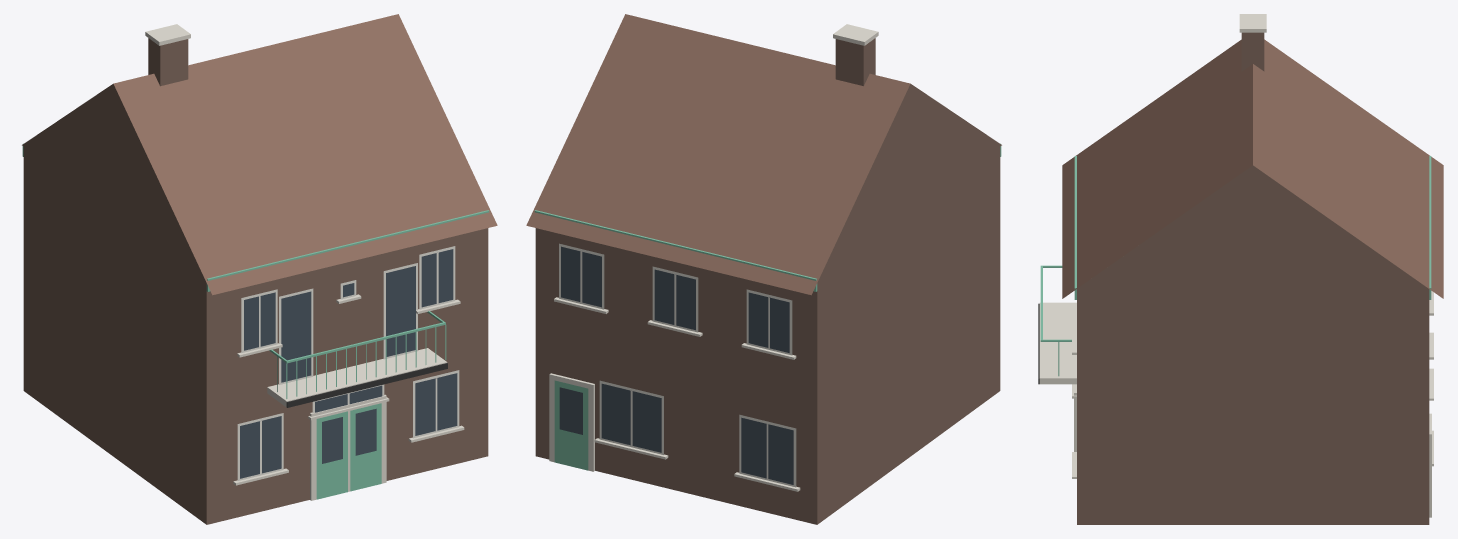
File: oo-ta-centre__green__2__gable__long__solid.glb
3 renders of one model, left to right at view 1: azimuth 30°, elevation 25°; view 2: azimuth 150°, elevation 25°; view 3: azimuth 270°, elevation 25°, orthographic. The views are drawn at different scales.
Visible parts, largest first — view 1: oo-ta-centre__green__2__gable__long__solid; view 2: oo-ta-centre__green__2__gable__long__solid; view 3: oo-ta-centre__green__2__gable__long__solid.
Boxes of the visible parts, x1,y1,x2,y2 form: oo-ta-centre__green__2__gable__long__solid: (22, 14, 497, 524); oo-ta-centre__green__2__gable__long__solid: (526, 14, 1001, 524); oo-ta-centre__green__2__gable__long__solid: (1038, 14, 1443, 524).
Bounding box in the file's own units: 7.64 × 10.54 × 9.77.
